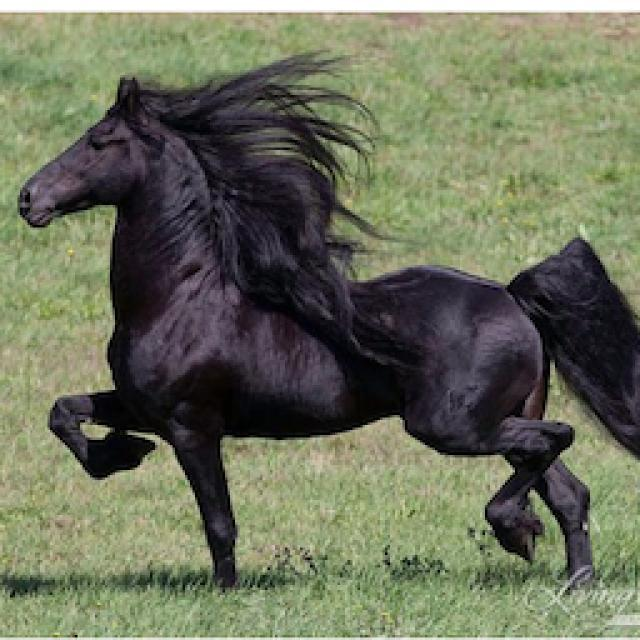Horse: (8, 45, 638, 598)
